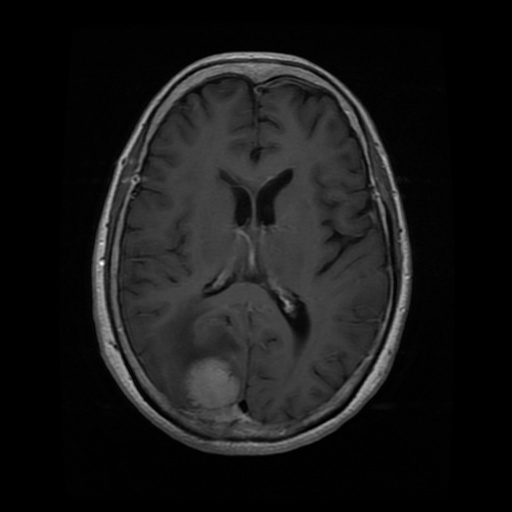meningioma: (185, 355, 239, 408)
